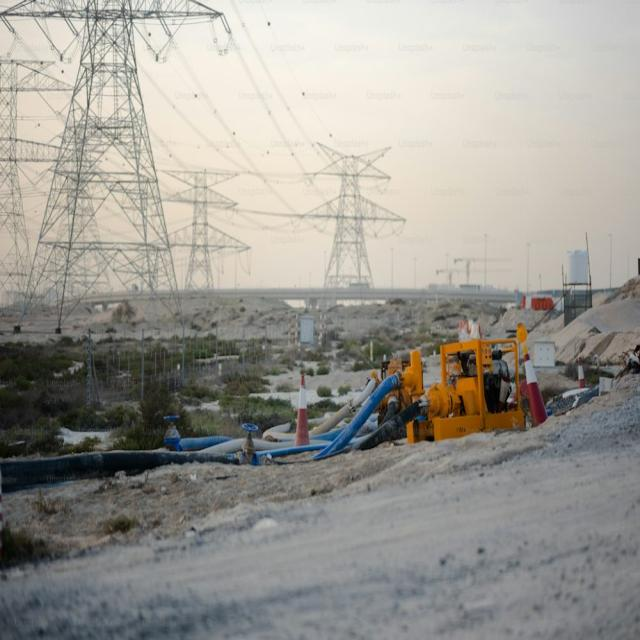transmission tower: (23, 0, 203, 373), (308, 121, 388, 316), (0, 44, 60, 304), (183, 154, 249, 301)
